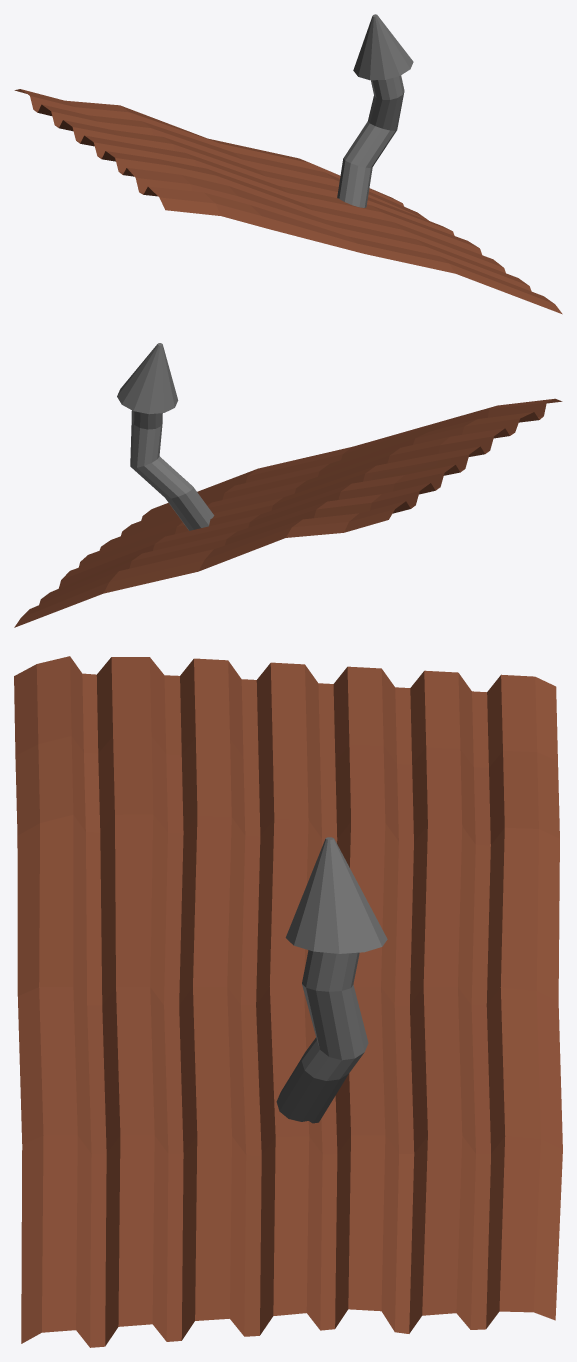
Rendered from Beach_House_Roof.fbx.
3 views of the same model, one above another, from view 1: azimuth 30°, elevation 25°; view 2: azimuth 150°, elevation 25°; view 3: azimuth 270°, elevation 25° (orthographic). The views are drawn at different scales.
Visible parts, largest first — view 1: Beach_House_Roof; view 2: Beach_House_Roof; view 3: Beach_House_Roof.
Boxes of the visible parts, box(x1,y1,x2,y2) form: Beach_House_Roof: box(14, 14, 562, 314); Beach_House_Roof: box(14, 343, 562, 627); Beach_House_Roof: box(14, 656, 562, 1347).
Size of the model in its own units: 6.22 by 3.83 by 4.4.
